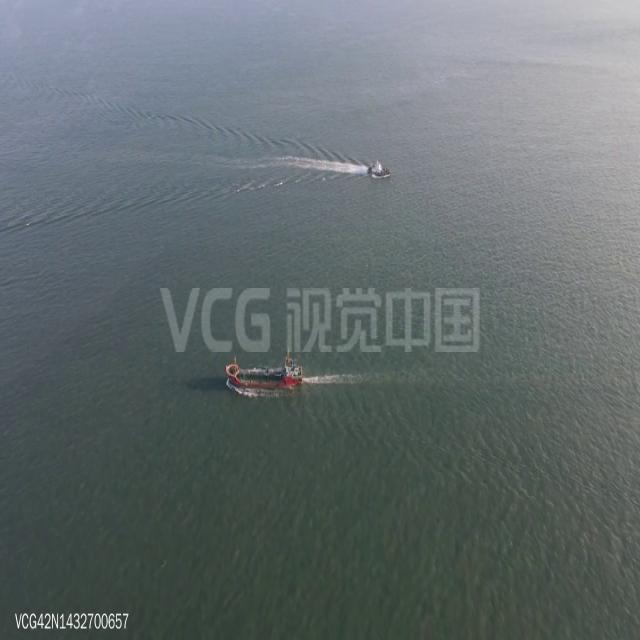cargoship: (225, 352, 306, 395), (367, 159, 392, 182)
